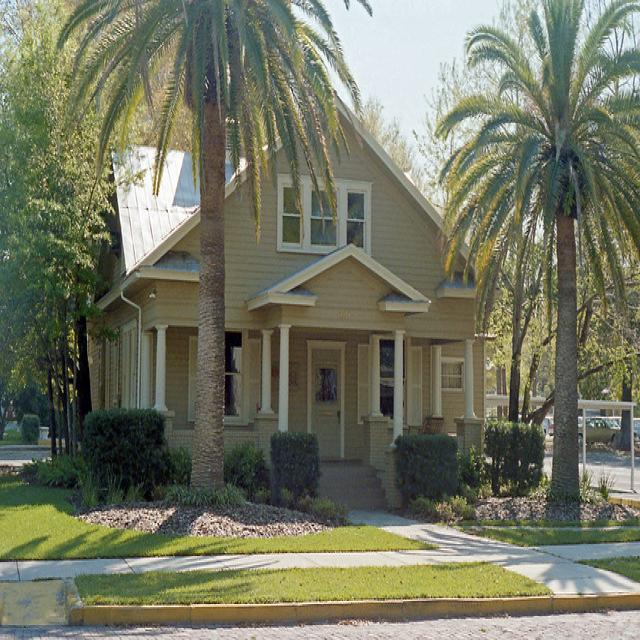building: (78, 74, 497, 518)
